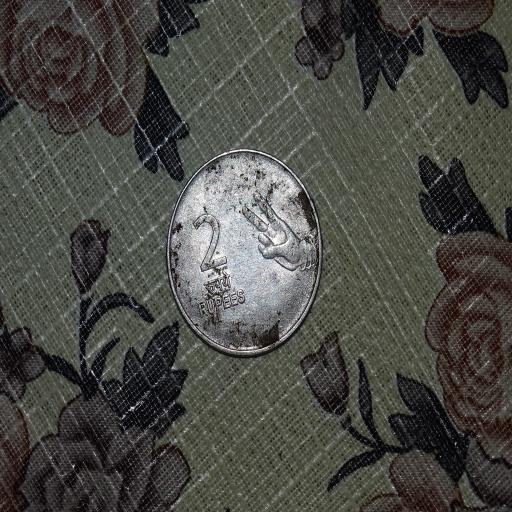rupee2: (165, 148, 324, 357)
